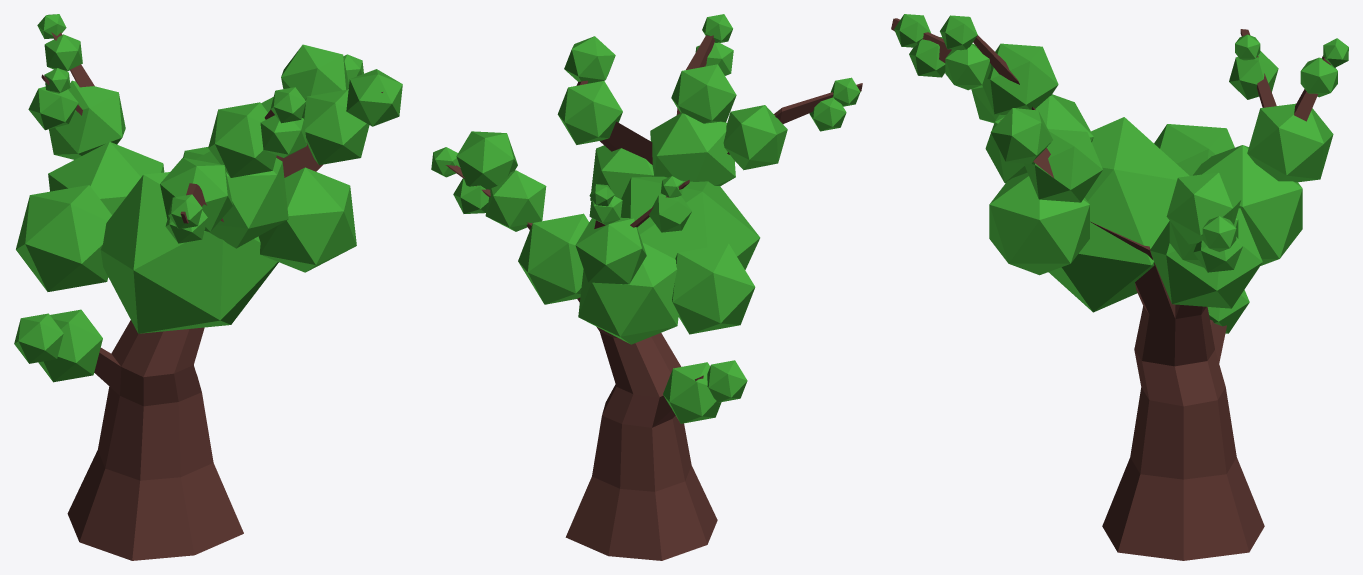
The model's file is tree 4.fbx.
3 views of the same model, side by side, from view 1: azimuth 30°, elevation 25°; view 2: azimuth 150°, elevation 25°; view 3: azimuth 270°, elevation 25° (orthographic). The views are drawn at different scales.
Visible parts, largest first — view 1: Tree 1; view 2: Tree 1; view 3: Tree 1.
Boxes of the visible parts, x1,y1,x2,y2 form: Tree 1: [14, 14, 402, 560]; Tree 1: [431, 14, 862, 560]; Tree 1: [891, 14, 1348, 560].
Size of the model in its own units: 788 by 1083 by 863.
